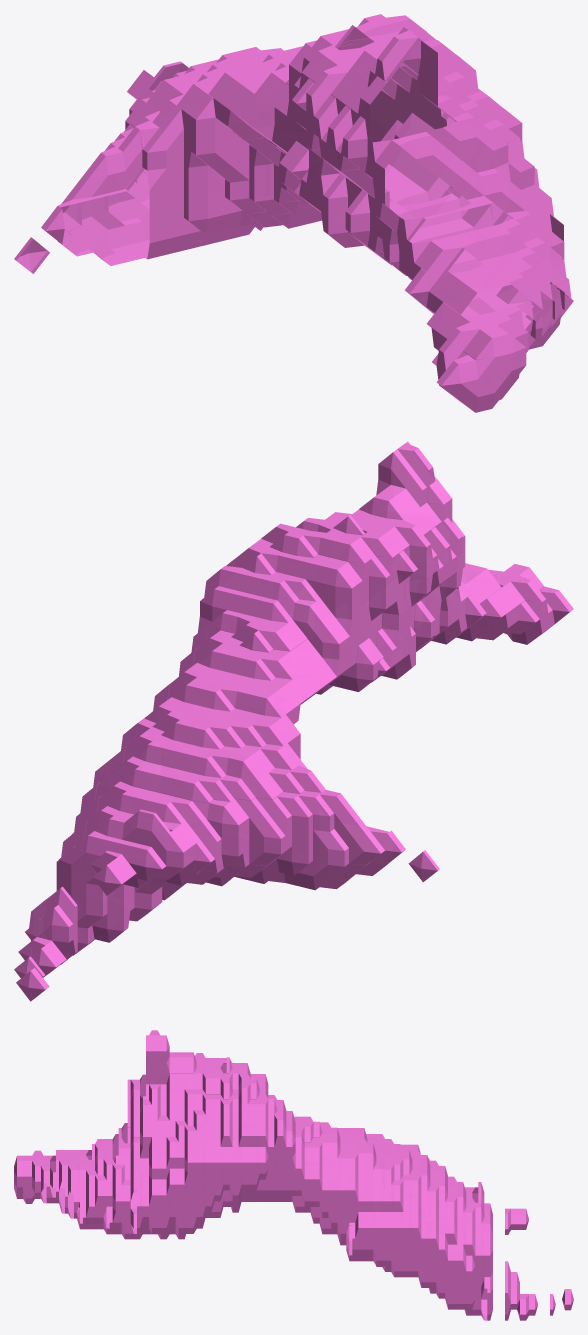
The model's file is SVV_BWM-VL04.gltf.
3 views of the same model, one above another, from view 1: azimuth 30°, elevation 25°; view 2: azimuth 150°, elevation 25°; view 3: azimuth 270°, elevation 25° (orthographic). The views are drawn at different scales.
Visible parts, largest first — view 1: BWM-VL04; view 2: BWM-VL04; view 3: BWM-VL04.
Part boxes in pixels (left/top/right/bottom): BWM-VL04: left=14, top=14, right=573, bottom=412; BWM-VL04: left=14, top=441, right=573, bottom=1001; BWM-VL04: left=14, top=1030, right=573, bottom=1320.
Size of the model in its own units: 10752 by 11781 by 23948.
